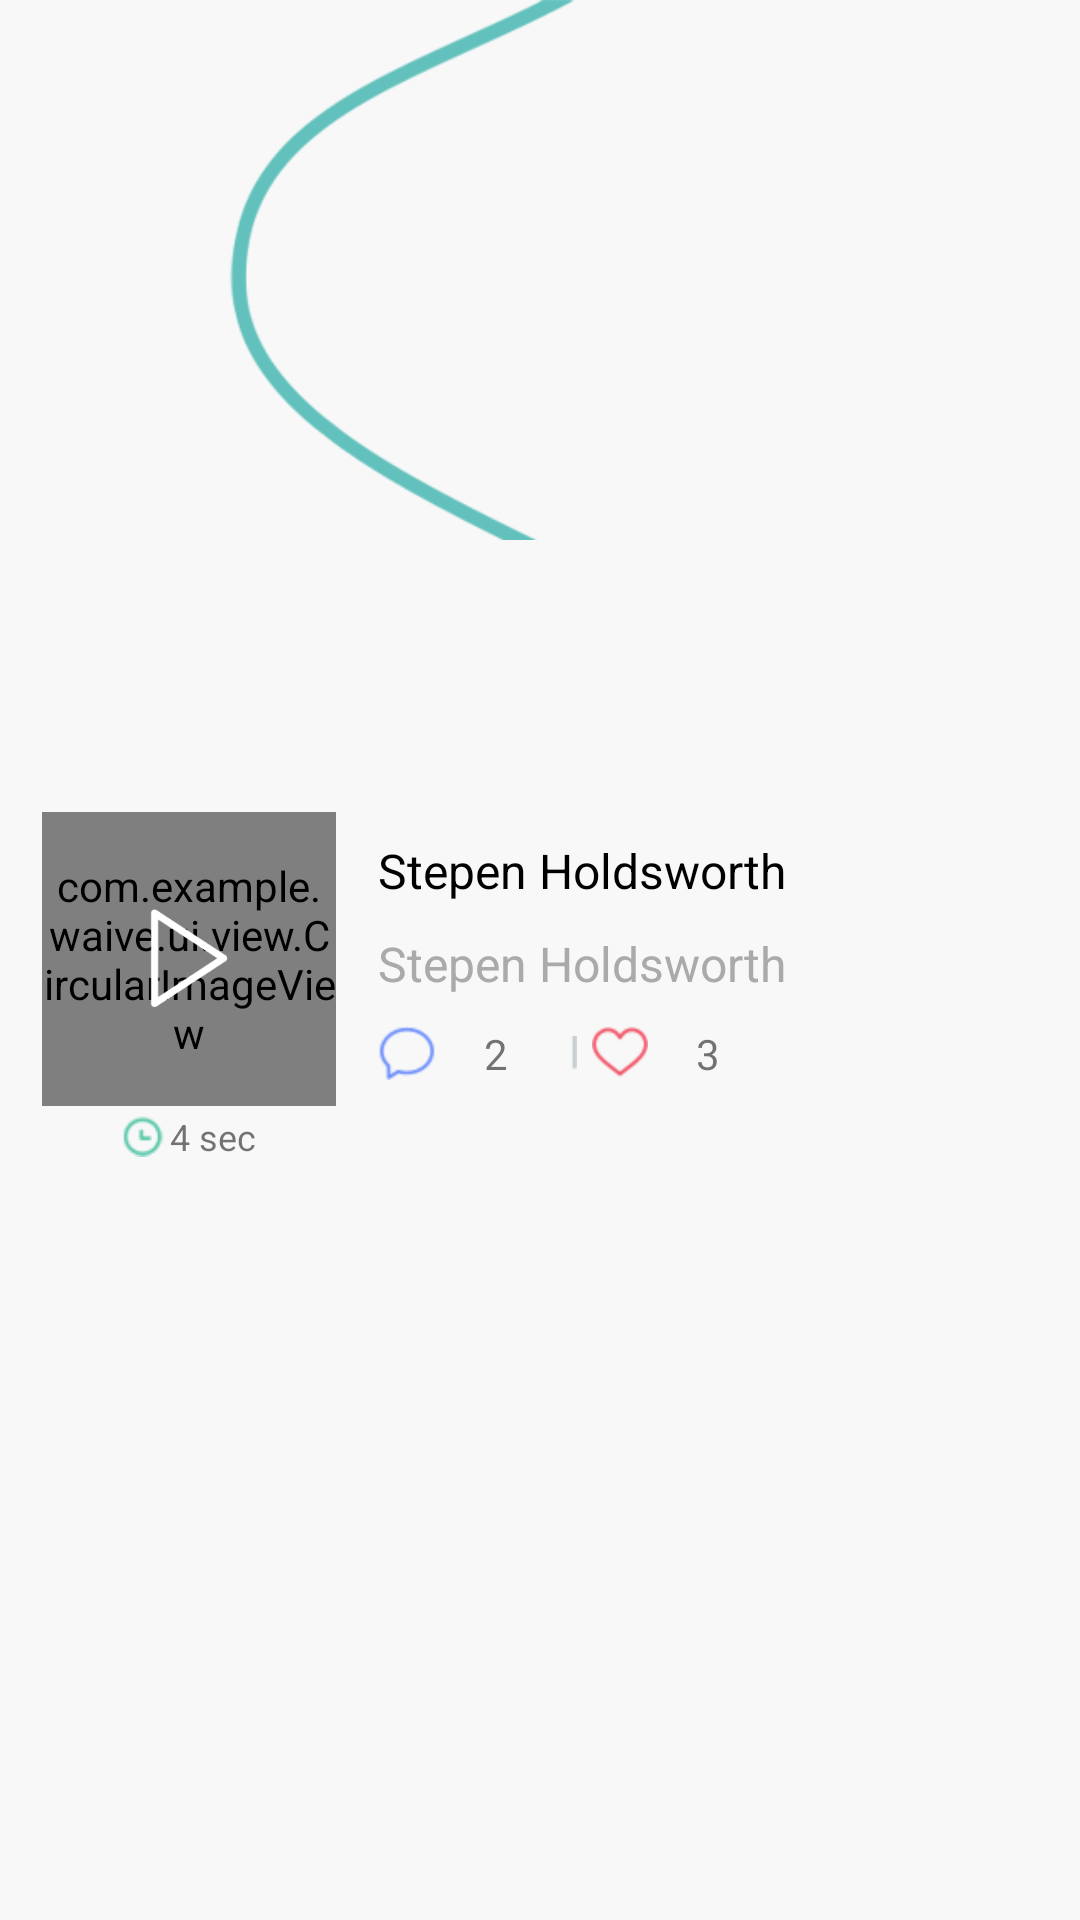

Named icons in this screenshot (1080×1920) and their centers, point (x, y):
clock: point (143, 1137)
comments: point (407, 1053)
heart: point (620, 1051)
play: point (189, 958)
